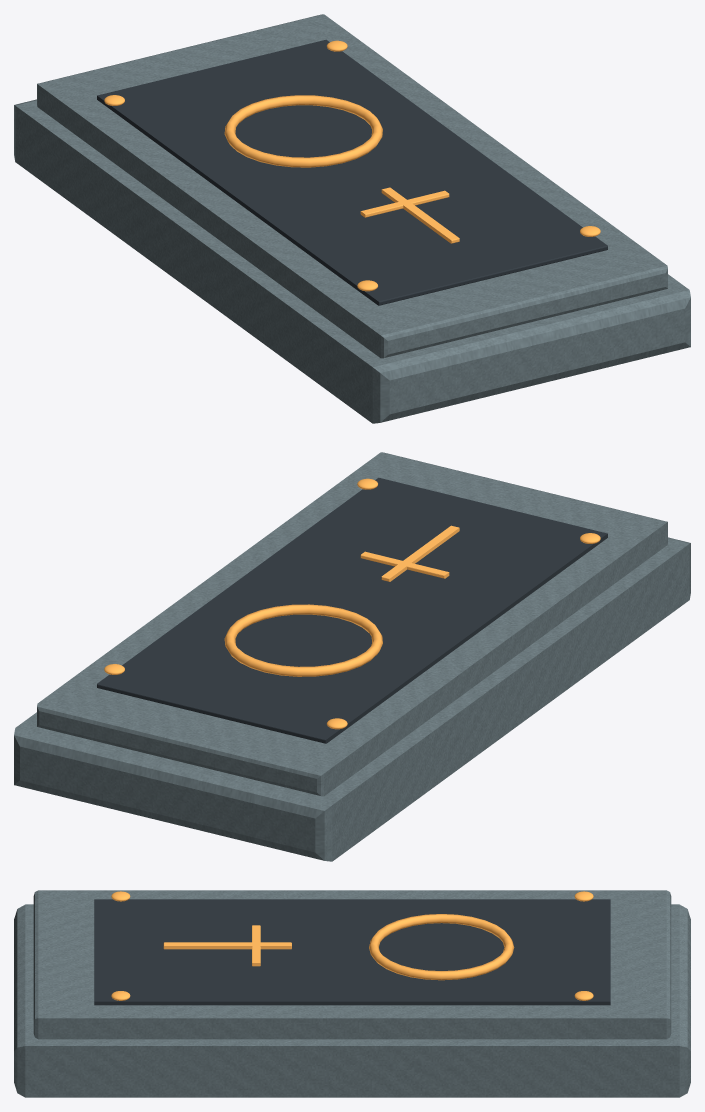
The model's file is hollowwick-halloween-engraved-tomb-slab-70733f00__21625.glb.
The picture shows the model from 3 angles, top to bottom: view 1: azimuth 30°, elevation 25°; view 2: azimuth 150°, elevation 25°; view 3: azimuth 270°, elevation 25°; orthographic projection. The views are drawn at different scales.
Parts seen in each view (by area): view 1: engraved-tomb-slab; view 2: engraved-tomb-slab; view 3: engraved-tomb-slab.
Part boxes in pixels (left/top/right/bottom): engraved-tomb-slab: left=14, top=14, right=690, bottom=423; engraved-tomb-slab: left=14, top=452, right=690, bottom=861; engraved-tomb-slab: left=14, top=890, right=690, bottom=1097.
Bounding box in the file's own units: 0.9399 × 0.2595 × 1.9.
Materials: 3 (1 with a texture image).
